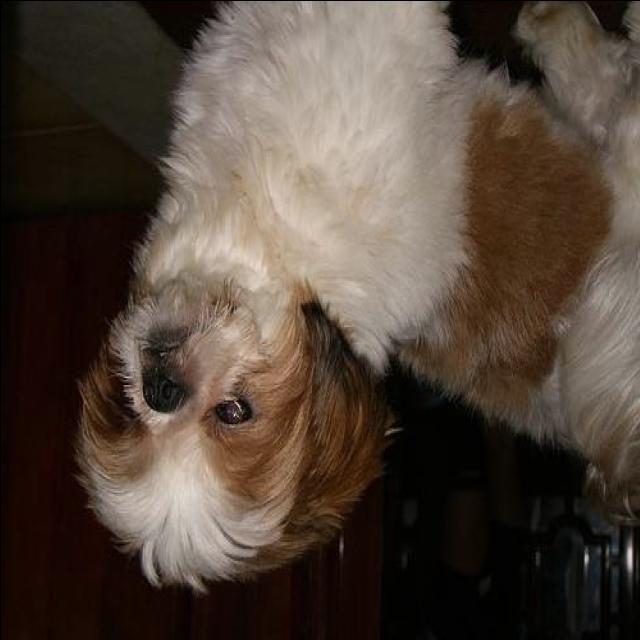shih_tzu: (73, 2, 640, 590)
